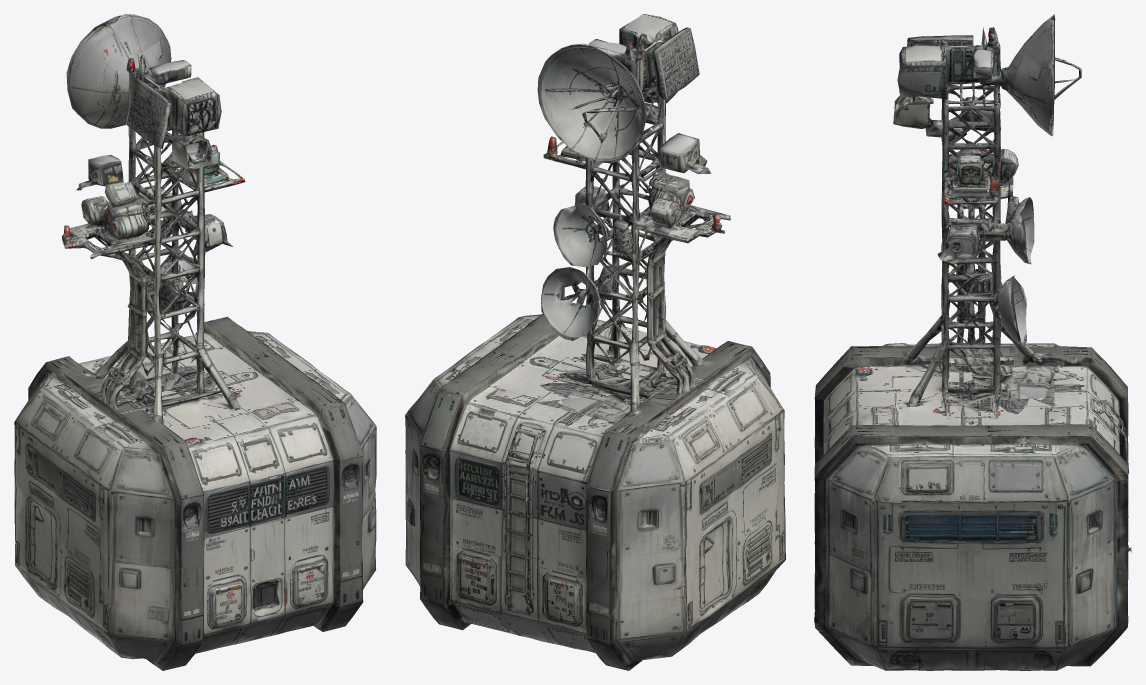
Rendered from HullAntenna.fbx.
3 views of the same model, side by side, from view 1: azimuth 30°, elevation 25°; view 2: azimuth 150°, elevation 25°; view 3: azimuth 270°, elevation 25° (orthographic). The views are drawn at different scales.
Parts seen in each view (by area): view 1: texture_mapping; view 2: texture_mapping; view 3: texture_mapping.
Boxes of the visible parts, x1,y1,x2,y2 form: texture_mapping: (14,14,376,670); texture_mapping: (405,14,785,670); texture_mapping: (814,14,1131,670).
Size of the model in its own units: 0.4889 by 0.4779 by 0.9714.
Materials: 1 (1 with a texture image).
